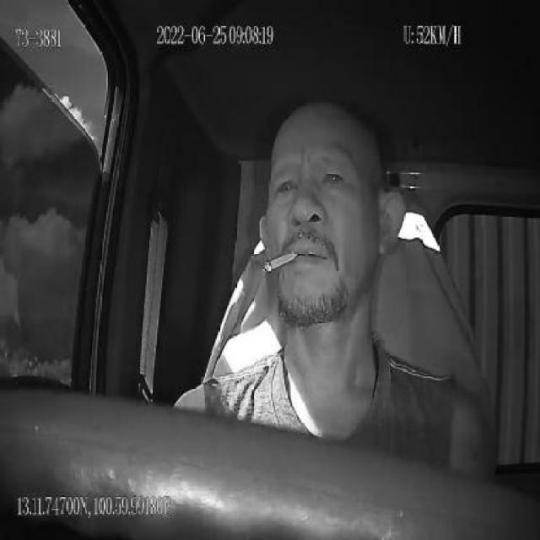smoking: (264, 250, 298, 273)
